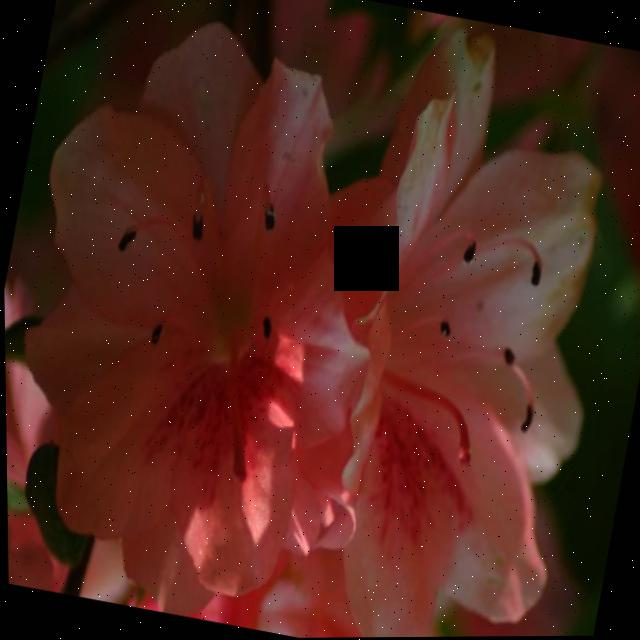azalea: (258, 45, 640, 639), (0, 27, 391, 580)
